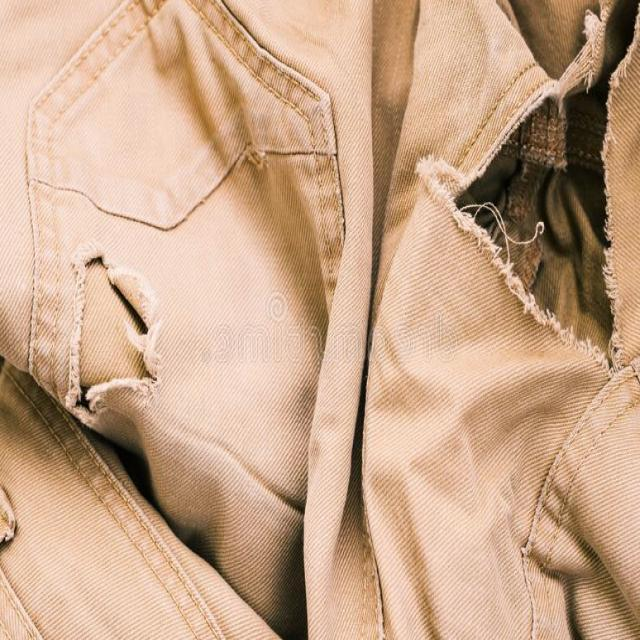clothes: (52, 118, 624, 588)
